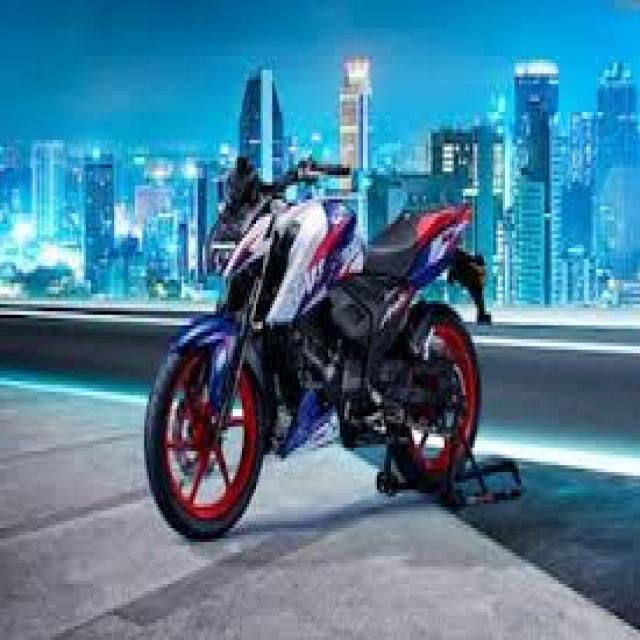bike: (131, 155, 494, 550)
